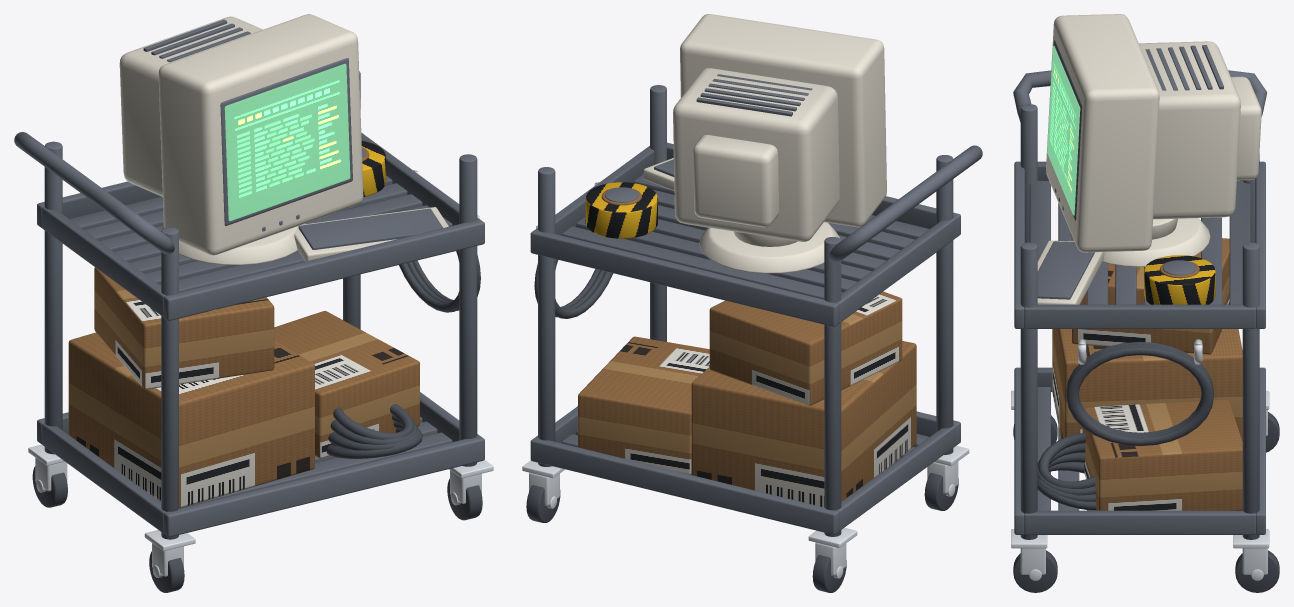
Rendered from prop_server_cart.glb.
3 views of the same model, side by side, from view 1: azimuth 30°, elevation 25°; view 2: azimuth 150°, elevation 25°; view 3: azimuth 270°, elevation 25° (orthographic). The views are drawn at different scales.
Parts seen in each view (by area): view 1: prop_server_cart; view 2: prop_server_cart; view 3: prop_server_cart.
Boxes of the visible parts, x1,y1,x2,y2 form: prop_server_cart: (14, 14, 493, 592); prop_server_cart: (522, 14, 982, 592); prop_server_cart: (1011, 14, 1279, 592).
Bounding box in the file's own units: 0.7843 × 0.9625 × 0.508.
Materials: 7 (3 with a texture image).
